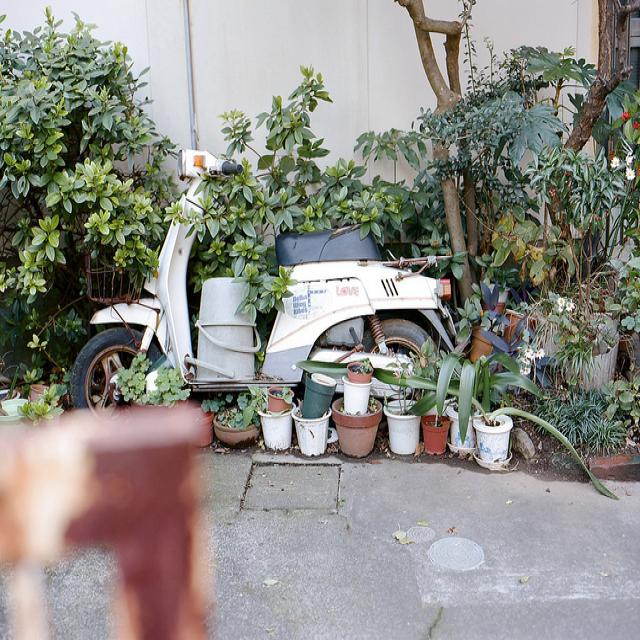motor: (70, 148, 455, 407)
